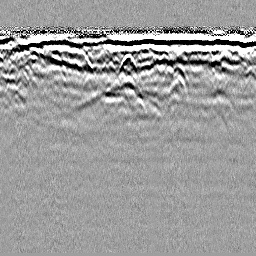cavity: (117, 52, 137, 72)
